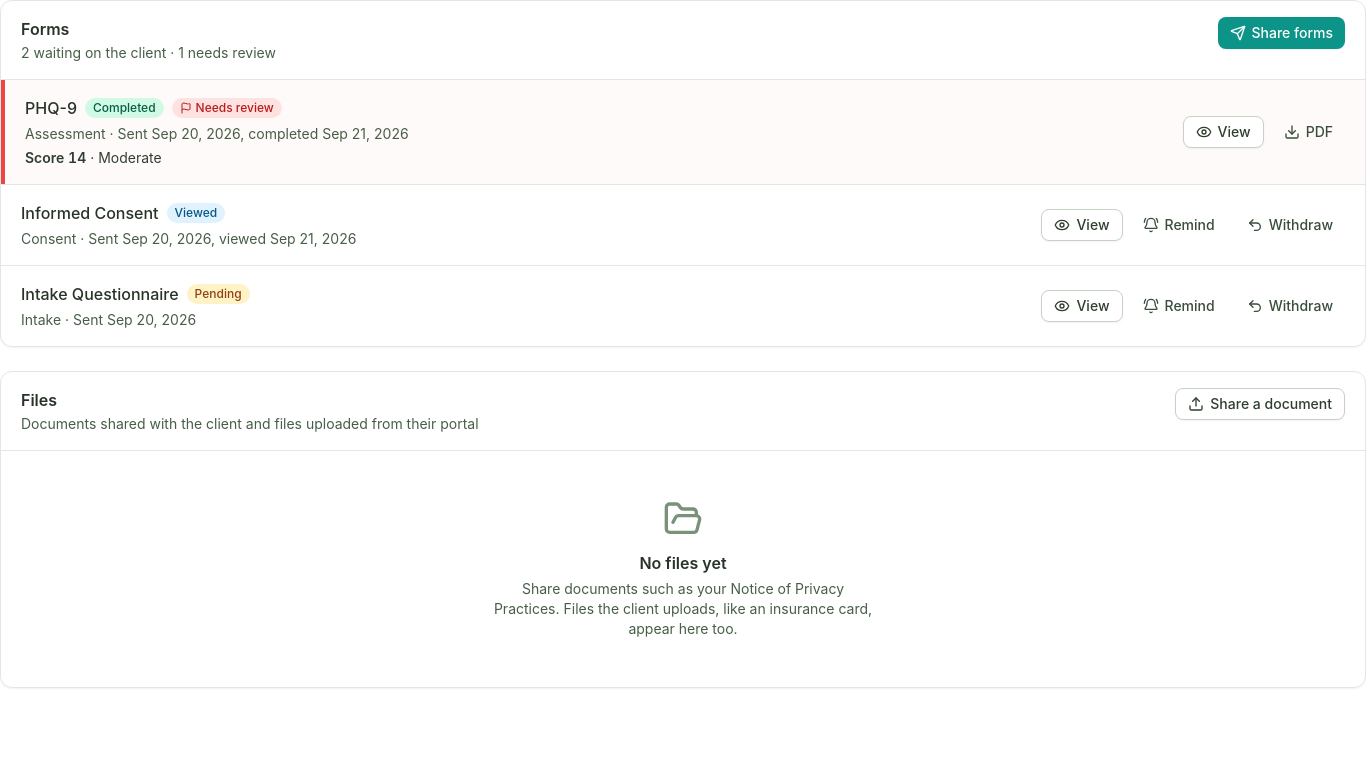
Test: ClientDocumentsTab › explains why forms cannot be sent when the server refuses
Click the button "Share forms". click: (1281, 33)
box: [1218,17,1345,49]
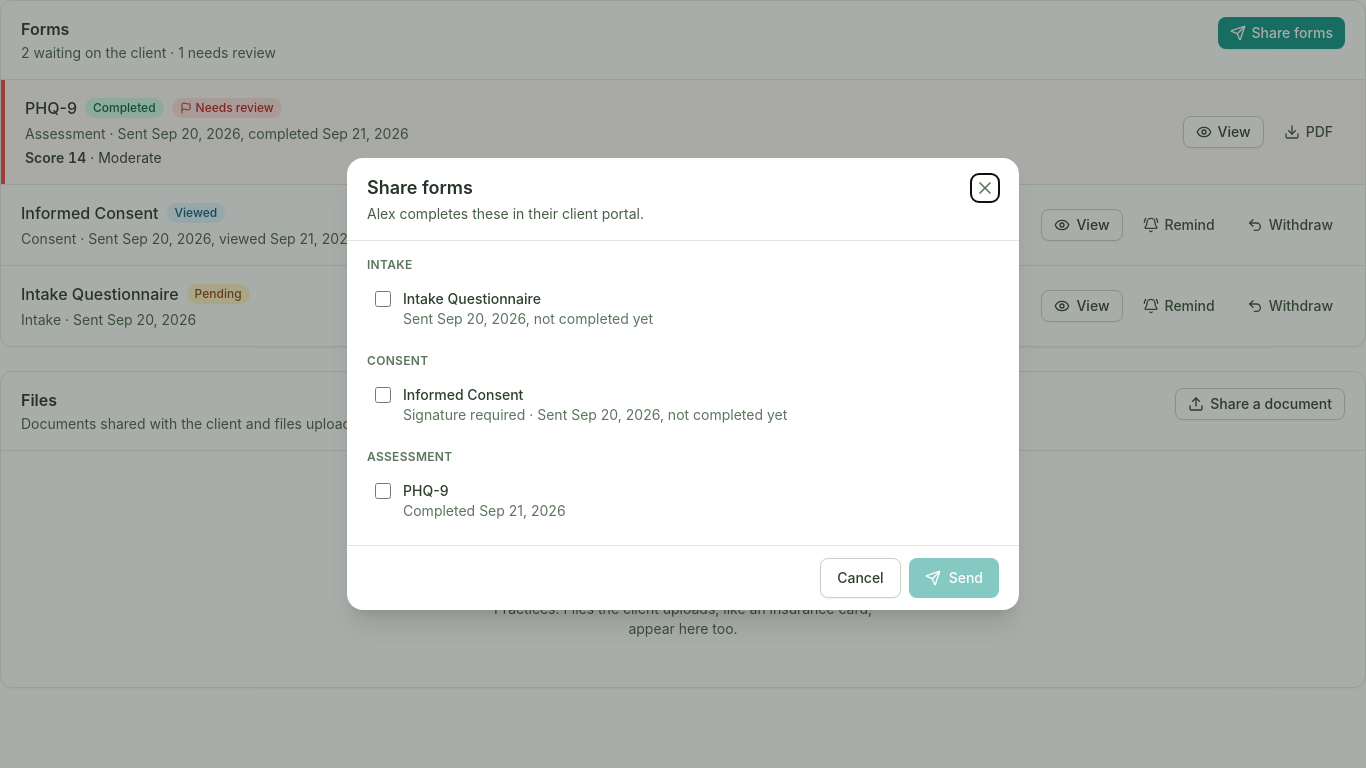
Click the checkbox labelled "PHQ-9 Completed Sep 21, 2026". click: (383, 491)
box: [375,483,391,499]
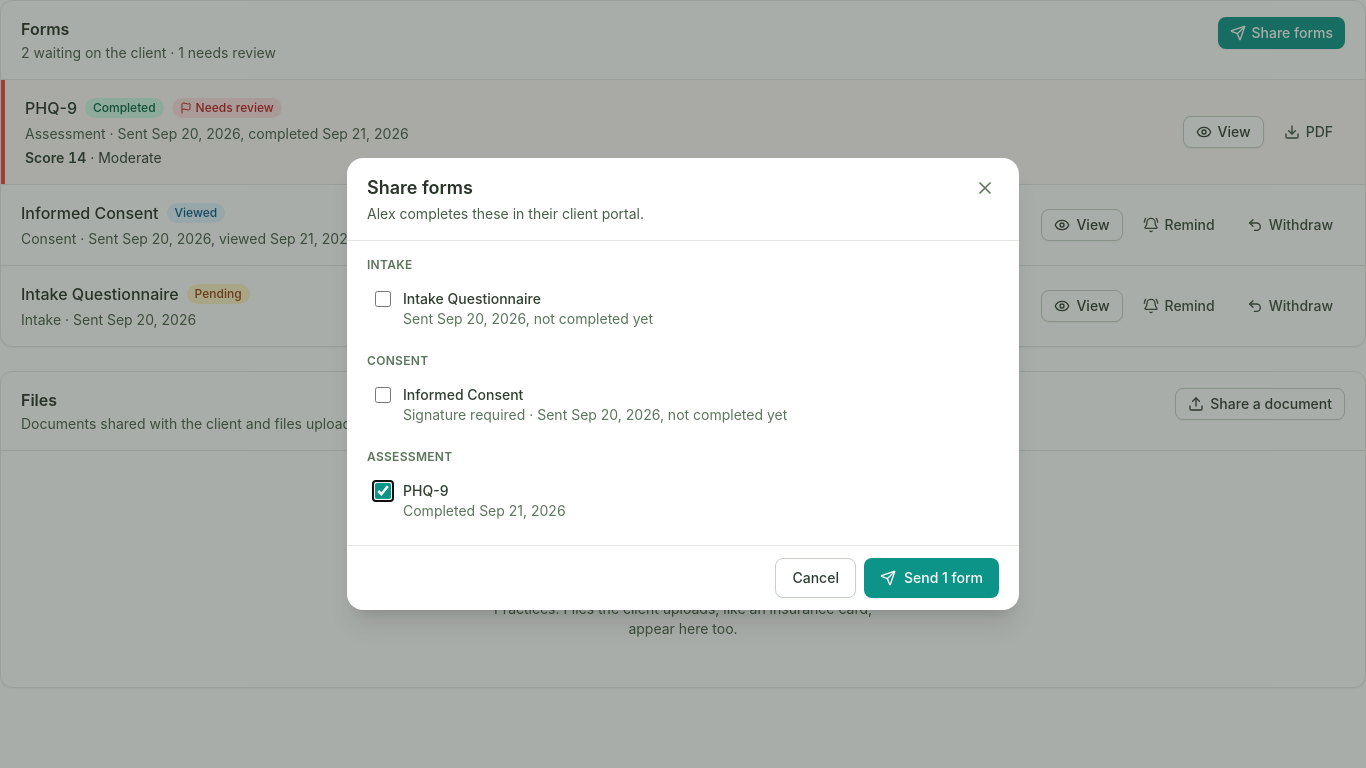
Click the button "Send 1 form". click: (932, 578)
box: [864,558,999,598]
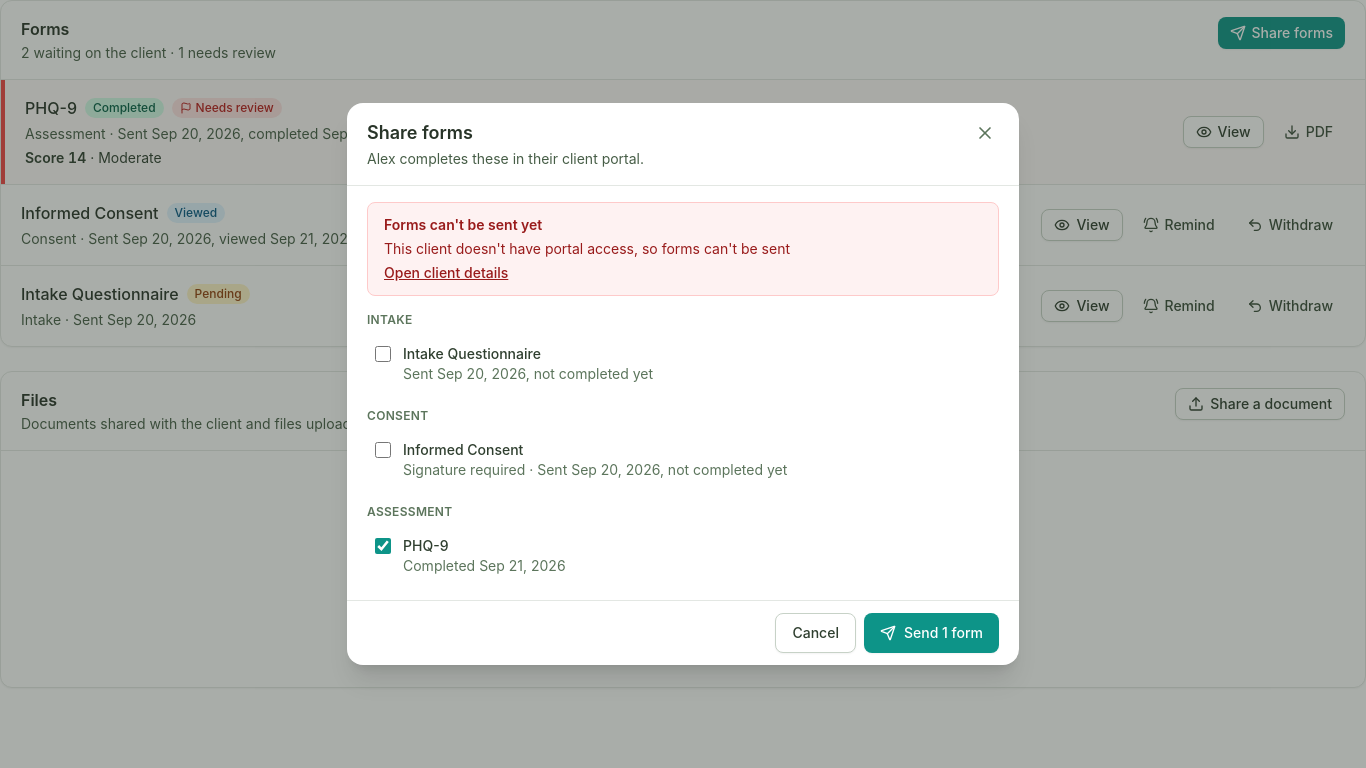
Expected: the text "This client doesn't have portal access, so forms can't be sent" is shown, [384,240,790,257]
